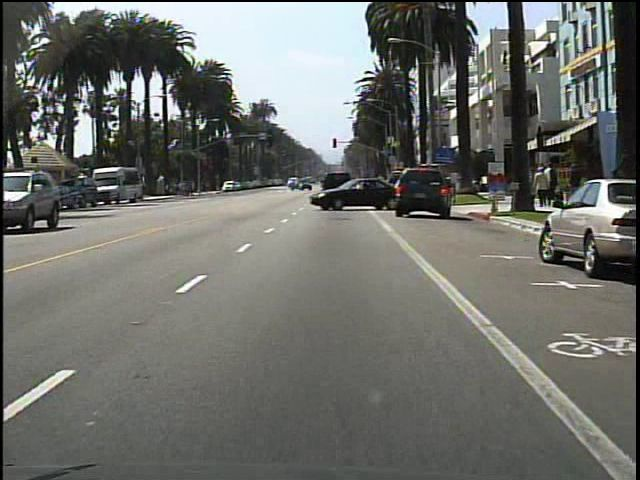person: (544, 160, 561, 209), (373, 169, 390, 207), (535, 166, 549, 209)
